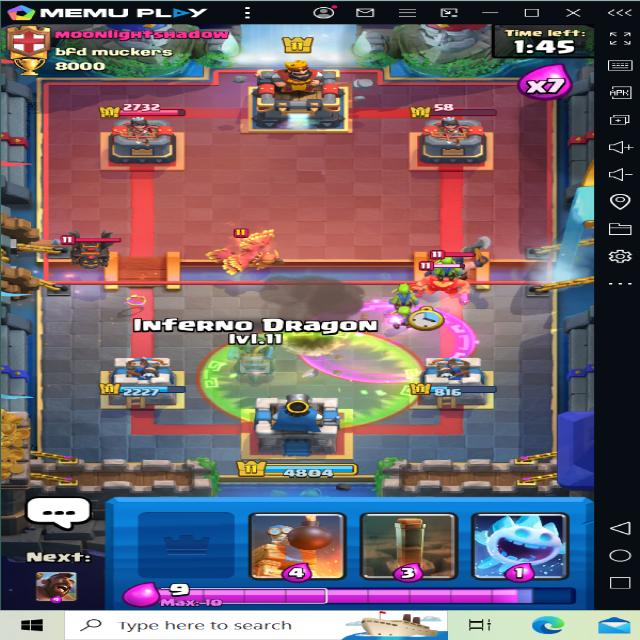executioner: (426, 238, 491, 277)
fisherman: (401, 264, 478, 306)
goblin-curse: (192, 327, 418, 428)
lava-hound: (41, 232, 133, 270)
phoenix: (194, 222, 306, 281)
rage: (301, 297, 474, 383)
